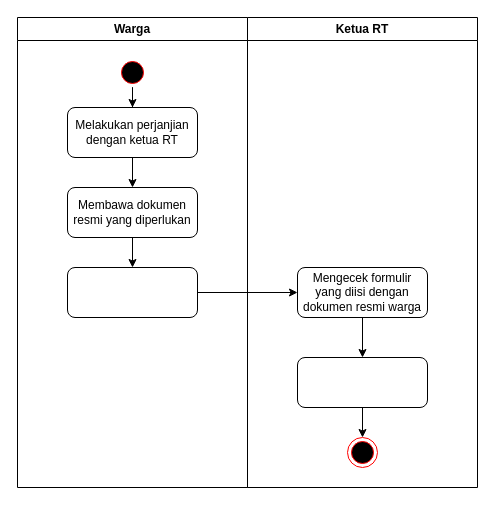
The diagram is 495 pixels wide and 505 high, and some of its shapes have lost their labels. Each missing label, with the centre of its shape:
"Mengisi formulir data diri" belongs at (132,292).
"Menyimpan data warga yang diisi di formulir" belongs at (362,382).
